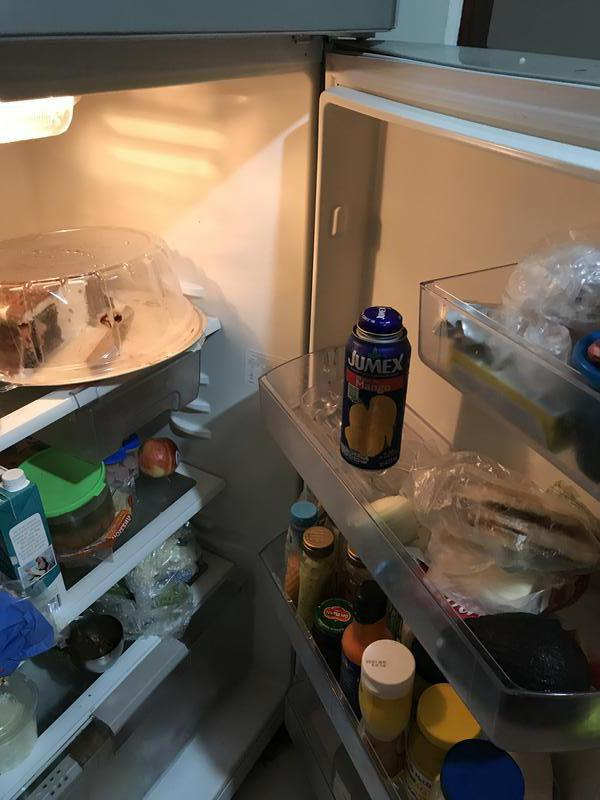jugo_jumex: (342, 307, 410, 470)
